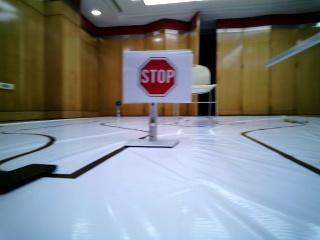stop: (124, 55, 182, 97)
